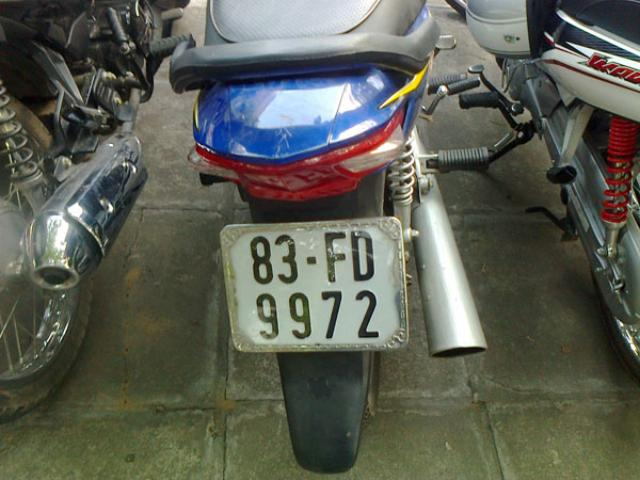plate: (224, 227, 403, 352)
